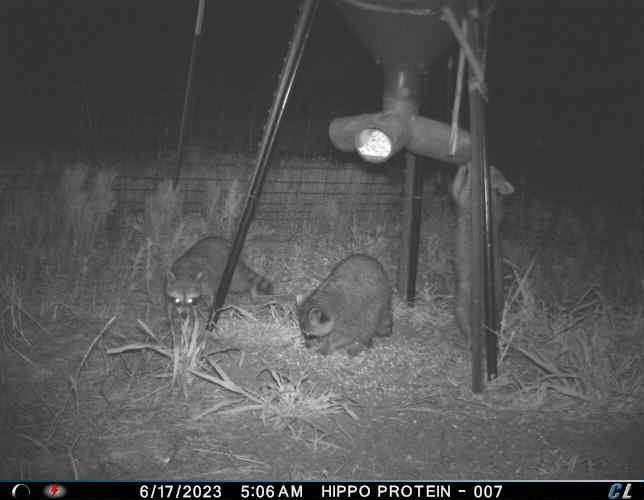Raccoon: (449, 159, 516, 354), (299, 251, 403, 358), (162, 235, 277, 312)
